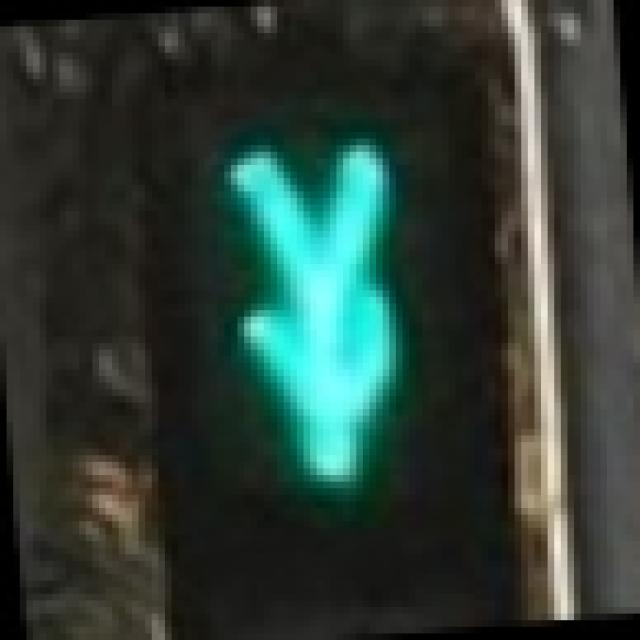geen-crossing: (132, 86, 482, 542)
